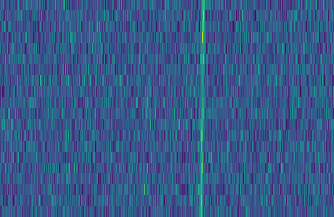signal: (196, 0, 208, 217)
